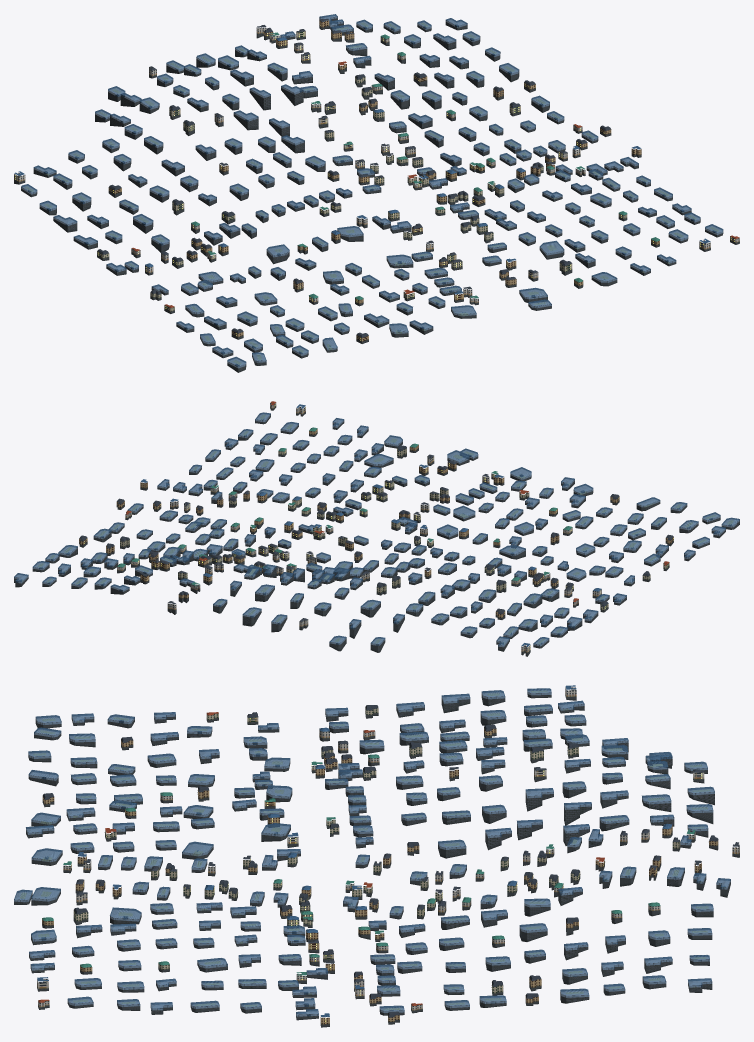
File: osm_buildings_T_E01_N02_Q1.glb
3 views of the same model, one above another, from view 1: azimuth 30°, elevation 25°; view 2: azimuth 150°, elevation 25°; view 3: azimuth 270°, elevation 25° (orthographic). The views are drawn at different scales.
Parts seen in each view (by area): view 1: OSM_T_E01_N02_Q1_greenhouse_blend, OSM_T_E01_N02_Q1_foundation, OSM_T_E01_N02_Q1_wall_french_ochre, OSM_T_E01_N02_Q1_wall_cream_stucco, OSM_T_E01_N02_Q1_window_emissive_warm, OSM_T_E01_N02_Q1_roof_mansard_slate, OSM_T_E01_N02_Q1_roof_mansard_deck, OSM_T_E01_N02_Q1_wall_warm_white, OSM_T_E01_N02_Q1_roof_mint_metal, OSM_T_E01_N02_Q1_wall_pastel_sand, OSM_T_E01_N02_Q1_roof_alpine_blue; view 2: OSM_T_E01_N02_Q1_greenhouse_blend, OSM_T_E01_N02_Q1_foundation, OSM_T_E01_N02_Q1_wall_french_ochre, OSM_T_E01_N02_Q1_roof_mansard_deck, OSM_T_E01_N02_Q1_window_emissive_warm, OSM_T_E01_N02_Q1_wall_cream_stucco, OSM_T_E01_N02_Q1_roof_mansard_slate, OSM_T_E01_N02_Q1_wall_warm_white, OSM_T_E01_N02_Q1_roof_mint_metal, OSM_T_E01_N02_Q1_wall_pastel_sand, OSM_T_E01_N02_Q1_roof_alpine_blue; view 3: OSM_T_E01_N02_Q1_greenhouse_blend, OSM_T_E01_N02_Q1_foundation, OSM_T_E01_N02_Q1_roof_mansard_deck, OSM_T_E01_N02_Q1_wall_french_ochre, OSM_T_E01_N02_Q1_window_emissive_warm, OSM_T_E01_N02_Q1_wall_cream_stucco, OSM_T_E01_N02_Q1_roof_mansard_slate, OSM_T_E01_N02_Q1_wall_warm_white, OSM_T_E01_N02_Q1_roof_mint_metal, OSM_T_E01_N02_Q1_wall_pastel_sand, OSM_T_E01_N02_Q1_roof_alpine_blue.
Boxes of the visible parts, box(x1,y1,x2,y2) form: OSM_T_E01_N02_Q1_greenhouse_blend: box(21, 14, 723, 368); OSM_T_E01_N02_Q1_foundation: box(14, 18, 739, 372); OSM_T_E01_N02_Q1_wall_french_ochre: box(108, 20, 659, 341); OSM_T_E01_N02_Q1_wall_cream_stucco: box(97, 30, 627, 311); OSM_T_E01_N02_Q1_window_emissive_warm: box(15, 23, 734, 364); OSM_T_E01_N02_Q1_roof_mansard_slate: box(97, 18, 610, 337); OSM_T_E01_N02_Q1_roof_mansard_deck: box(33, 16, 717, 365); OSM_T_E01_N02_Q1_wall_warm_white: box(14, 37, 739, 302); OSM_T_E01_N02_Q1_roof_mint_metal: box(191, 32, 659, 300); OSM_T_E01_N02_Q1_wall_pastel_sand: box(145, 27, 585, 273); OSM_T_E01_N02_Q1_roof_alpine_blue: box(14, 37, 710, 294); OSM_T_E01_N02_Q1_greenhouse_blend: box(14, 412, 739, 647); OSM_T_E01_N02_Q1_foundation: box(14, 406, 739, 656); OSM_T_E01_N02_Q1_wall_french_ochre: box(79, 429, 673, 617); OSM_T_E01_N02_Q1_roof_mansard_deck: box(15, 414, 737, 646); OSM_T_E01_N02_Q1_window_emissive_warm: box(38, 405, 733, 649); OSM_T_E01_N02_Q1_wall_cream_stucco: box(120, 448, 669, 610); OSM_T_E01_N02_Q1_roof_mansard_slate: box(79, 446, 673, 621); OSM_T_E01_N02_Q1_wall_warm_white: box(117, 402, 578, 652); OSM_T_E01_N02_Q1_roof_mint_metal: box(117, 427, 572, 585); OSM_T_E01_N02_Q1_wall_pastel_sand: box(125, 486, 601, 626); OSM_T_E01_N02_Q1_roof_alpine_blue: box(141, 404, 601, 646); OSM_T_E01_N02_Q1_greenhouse_blend: box(14, 688, 730, 1016); OSM_T_E01_N02_Q1_foundation: box(14, 692, 739, 1027); OSM_T_E01_N02_Q1_roof_mansard_deck: box(14, 692, 725, 1016); OSM_T_E01_N02_Q1_wall_french_ochre: box(42, 728, 718, 1024); OSM_T_E01_N02_Q1_window_emissive_warm: box(20, 691, 709, 1021); OSM_T_E01_N02_Q1_wall_cream_stucco: box(73, 707, 680, 993); OSM_T_E01_N02_Q1_roof_mansard_slate: box(43, 705, 739, 1017); OSM_T_E01_N02_Q1_wall_warm_white: box(37, 687, 660, 1007); OSM_T_E01_N02_Q1_roof_mint_metal: box(42, 754, 695, 975); OSM_T_E01_N02_Q1_wall_pastel_sand: box(296, 728, 739, 1010); OSM_T_E01_N02_Q1_roof_alpine_blue: box(37, 685, 672, 1016).
Bounding box in the file's own units: 957 × 122 × 958.
16 materials, 16 textured.
